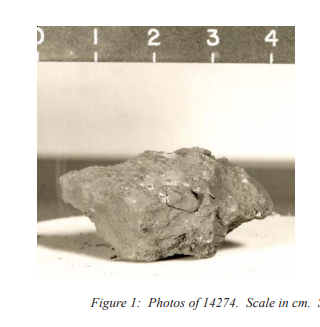Breccia: (52, 133, 287, 273)
